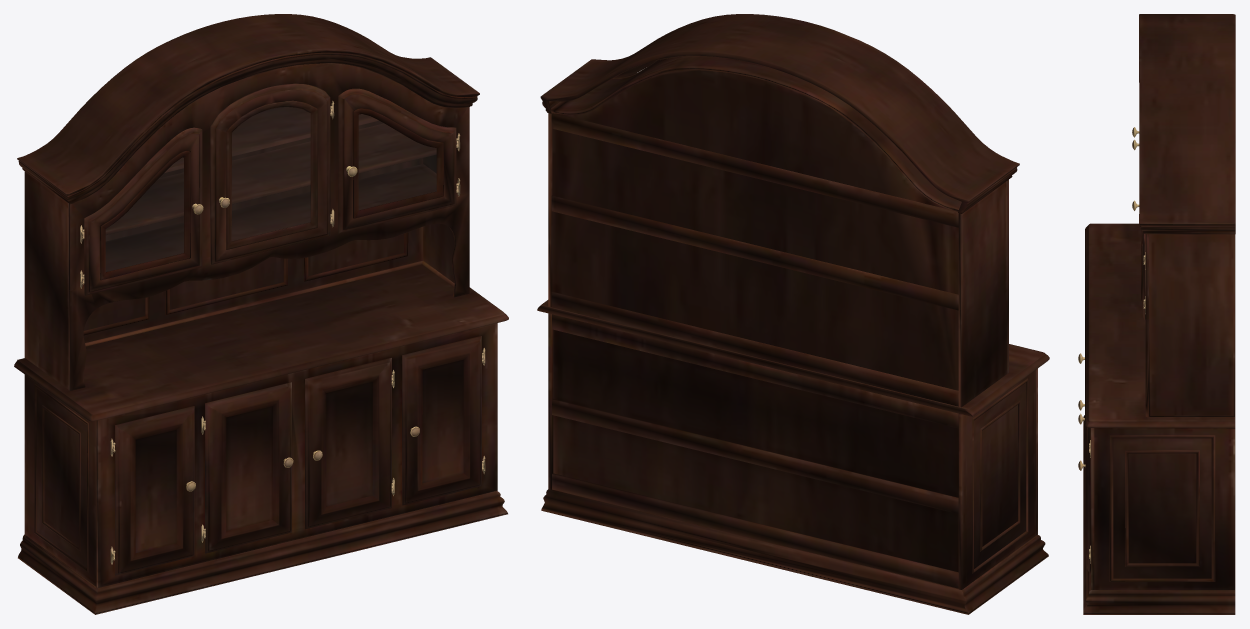
The model's file is vintage_cabinet_01.glb.
3 renders of one model, left to right at view 1: azimuth 30°, elevation 25°; view 2: azimuth 150°, elevation 25°; view 3: azimuth 270°, elevation 25°, orthographic. The views are drawn at different scales.
Visible parts, largest first — view 1: vintage_cabinet_01_body, vintage_cabinet_01_door_03, vintage_cabinet_01_door_01, vintage_cabinet_01_door_04, vintage_cabinet_01_door_06, vintage_cabinet_01_door_07, vintage_cabinet_01_door_05, vintage_cabinet_01_door_02; view 2: vintage_cabinet_01_body; view 3: vintage_cabinet_01_body, vintage_cabinet_01_door_02, vintage_cabinet_01_door_04.
Part boxes in pixels (x1,y1,x2,y2): vintage_cabinet_01_body: (14,14,508,614); vintage_cabinet_01_door_03: (210,83,332,264); vintage_cabinet_01_door_01: (82,127,203,295); vintage_cabinet_01_door_04: (338,88,458,233); vintage_cabinet_01_door_06: (204,382,293,553); vintage_cabinet_01_door_07: (305,357,392,529); vintage_cabinet_01_door_05: (113,406,195,575); vintage_cabinet_01_door_02: (402,336,483,505); vintage_cabinet_01_body: (537,14,1049,614); vintage_cabinet_01_body: (1083,14,1235,614); vintage_cabinet_01_door_02: (1078,427,1090,572); vintage_cabinet_01_door_04: (1132,200,1145,319).
Bounding box in the file's own units: 2.02 × 2.23 × 0.6698.
Materials: 3 (2 with a texture image).
